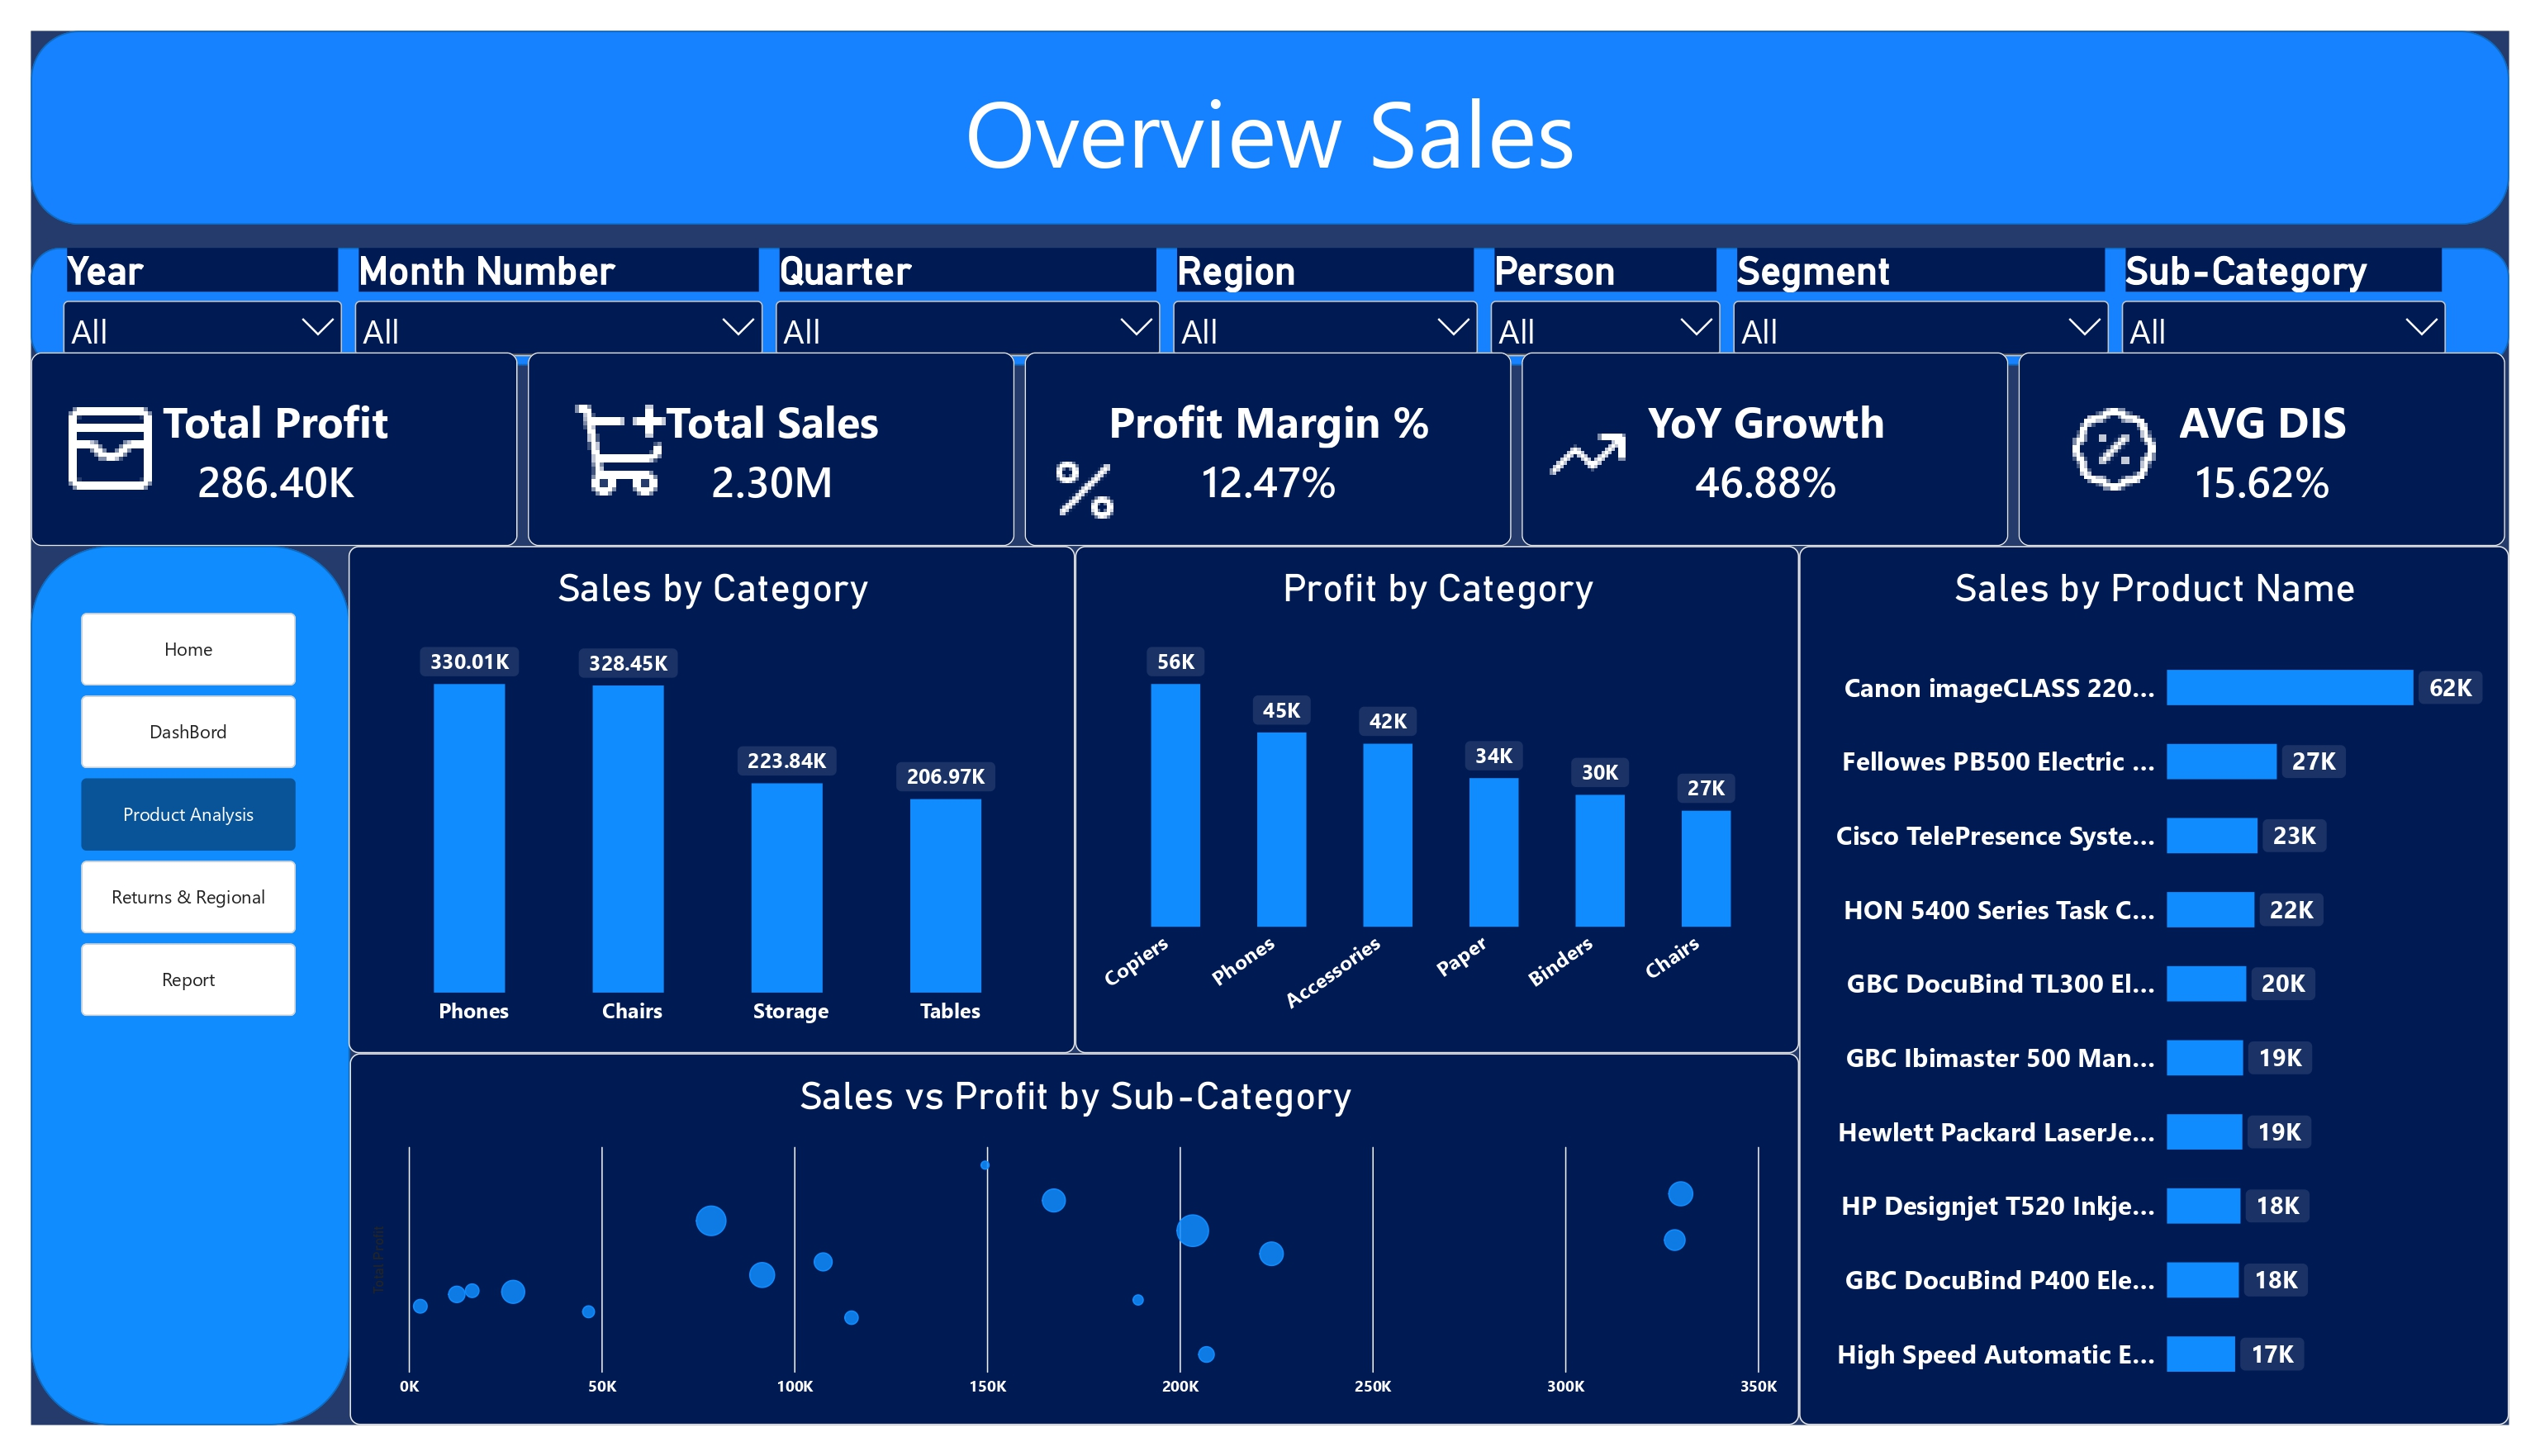

This screenshot's page, from the dashboard's own definition file:
{"tool":"powerbi","page":{"name":"Product Analysis","canvas":[1920,1080],"ordinal":2},"visuals":[{"type":"shape","box":[0,399,247,681],"z":0},{"type":"shape","box":[0,0,1920,150],"z":1000},{"type":"textbox","box":[0,28.3,1920,121.5],"z":2000},{"type":"shape","box":[0,168.1,1920,90.4],"z":3000},{"type":"slicer","fields":{"Values":["DateTable.Year"]},"box":[19.6,167.9,226.6,81.5],"z":4000},{"type":"slicer","fields":{"Values":["DateTable.Month Number"]},"box":[246.1,167.9,326,105.9],"z":5000},{"type":"slicer","fields":{"Values":["DateTable.Quarter"]},"box":[572.1,167.9,308,84.8],"z":6000},{"type":"slicer","fields":{"Values":["Orders.Region"]},"box":[880.1,167.9,246.1,86.4],"z":7000},{"type":"slicer","fields":{"Values":["People.Person"]},"box":[1126.2,167.9,187.4,84.8],"z":8000},{"type":"slicer","fields":{"Values":["Orders.Segment"]},"box":[1313.7,167.9,301.5,89.6],"z":9000},{"type":"slicer","fields":{"Values":["Orders.Sub-Category"]},"box":[1615.2,167.9,260.8,89.6],"z":10000},{"type":"cardVisual","fields":{"Data":["DAX Measures.Total Profit","DAX Measures.Total Sales","DAX Measures.Profit Margin %","DAX Measures.YoY Growth","DAX Measures.AVG DIS"]},"box":[0,249.4,1920,150],"z":11000},{"type":"pageNavigator","box":[39.2,451,166.8,314.7],"z":12000},{"type":"columnChart","title":"Sales by Category","fields":{"Y":["DAX Measures.Total Sales"],"Category":["Orders.Sub-Category"]},"box":[245.8,398.6,563,393.6],"z":13000},{"type":"columnChart","title":"Profit by Category","fields":{"Y":["DAX Measures.Total Profit"],"Category":["Orders.Sub-Category"]},"box":[808.9,398.6,561.4,393.6],"z":14000},{"type":"barChart","title":" Sales by Product Name","fields":{"Y":["DAX Measures.Total Sales"],"Category":["Orders.Product Name"]},"box":[1370.2,398.6,549.8,681],"z":15000},{"type":"scatterChart","title":"Sales vs Profit by Sub-Category","fields":{"X":["DAX Measures.Total Sales"],"Y":["DAX Measures.Total Profit"],"Category":["Orders.Sub-Category"],"Size":["Sum(Orders.Quantity)"]},"box":[247.5,792.2,1122.8,287.3],"z":16000},{"type":"image","box":[409.7,286,93.1,77.1],"z":16001},{"type":"image","box":[20,284.6,82.5,77.1],"z":16002},{"type":"image","box":[787.4,323.2,58.5,63.8],"z":16003},{"type":"image","box":[1174.4,293.9,63.8,67.8],"z":16004},{"type":"image","box":[1578.8,284.6,70.5,78.5],"z":16005}]}

Visuals, with their boxes on the page's 1920x1080 design canvas (x1, y1, x2, y2). These are canvas units, not pixel positions in the 2540x1456 screenshot, which may show the page scaled, cropped or inside an application window:
shape: <region>0, 399, 247, 1080</region>
shape: <region>0, 0, 1920, 150</region>
textbox: <region>0, 28, 1920, 150</region>
shape: <region>0, 168, 1920, 258</region>
slicer - DateTable.Year: <region>20, 168, 246, 249</region>
slicer - DateTable.Month Number: <region>246, 168, 572, 274</region>
slicer - DateTable.Quarter: <region>572, 168, 880, 253</region>
slicer - Orders.Region: <region>880, 168, 1126, 254</region>
slicer - People.Person: <region>1126, 168, 1314, 253</region>
slicer - Orders.Segment: <region>1314, 168, 1615, 258</region>
slicer - Orders.Sub-Category: <region>1615, 168, 1876, 258</region>
cardVisual - DAX Measures.Total Profit x DAX Measures.Total Sales: <region>0, 249, 1920, 399</region>
pageNavigator: <region>39, 451, 206, 766</region>
"Sales by Category" columnChart: <region>246, 399, 809, 792</region>
"Profit by Category" columnChart: <region>809, 399, 1370, 792</region>
" Sales by Product Name" barChart: <region>1370, 399, 1920, 1080</region>
"Sales vs Profit by Sub-Category" scatterChart: <region>248, 792, 1370, 1080</region>
image: <region>410, 286, 503, 363</region>
image: <region>20, 285, 102, 362</region>
image: <region>787, 323, 846, 387</region>
image: <region>1174, 294, 1238, 362</region>
image: <region>1579, 285, 1649, 363</region>
